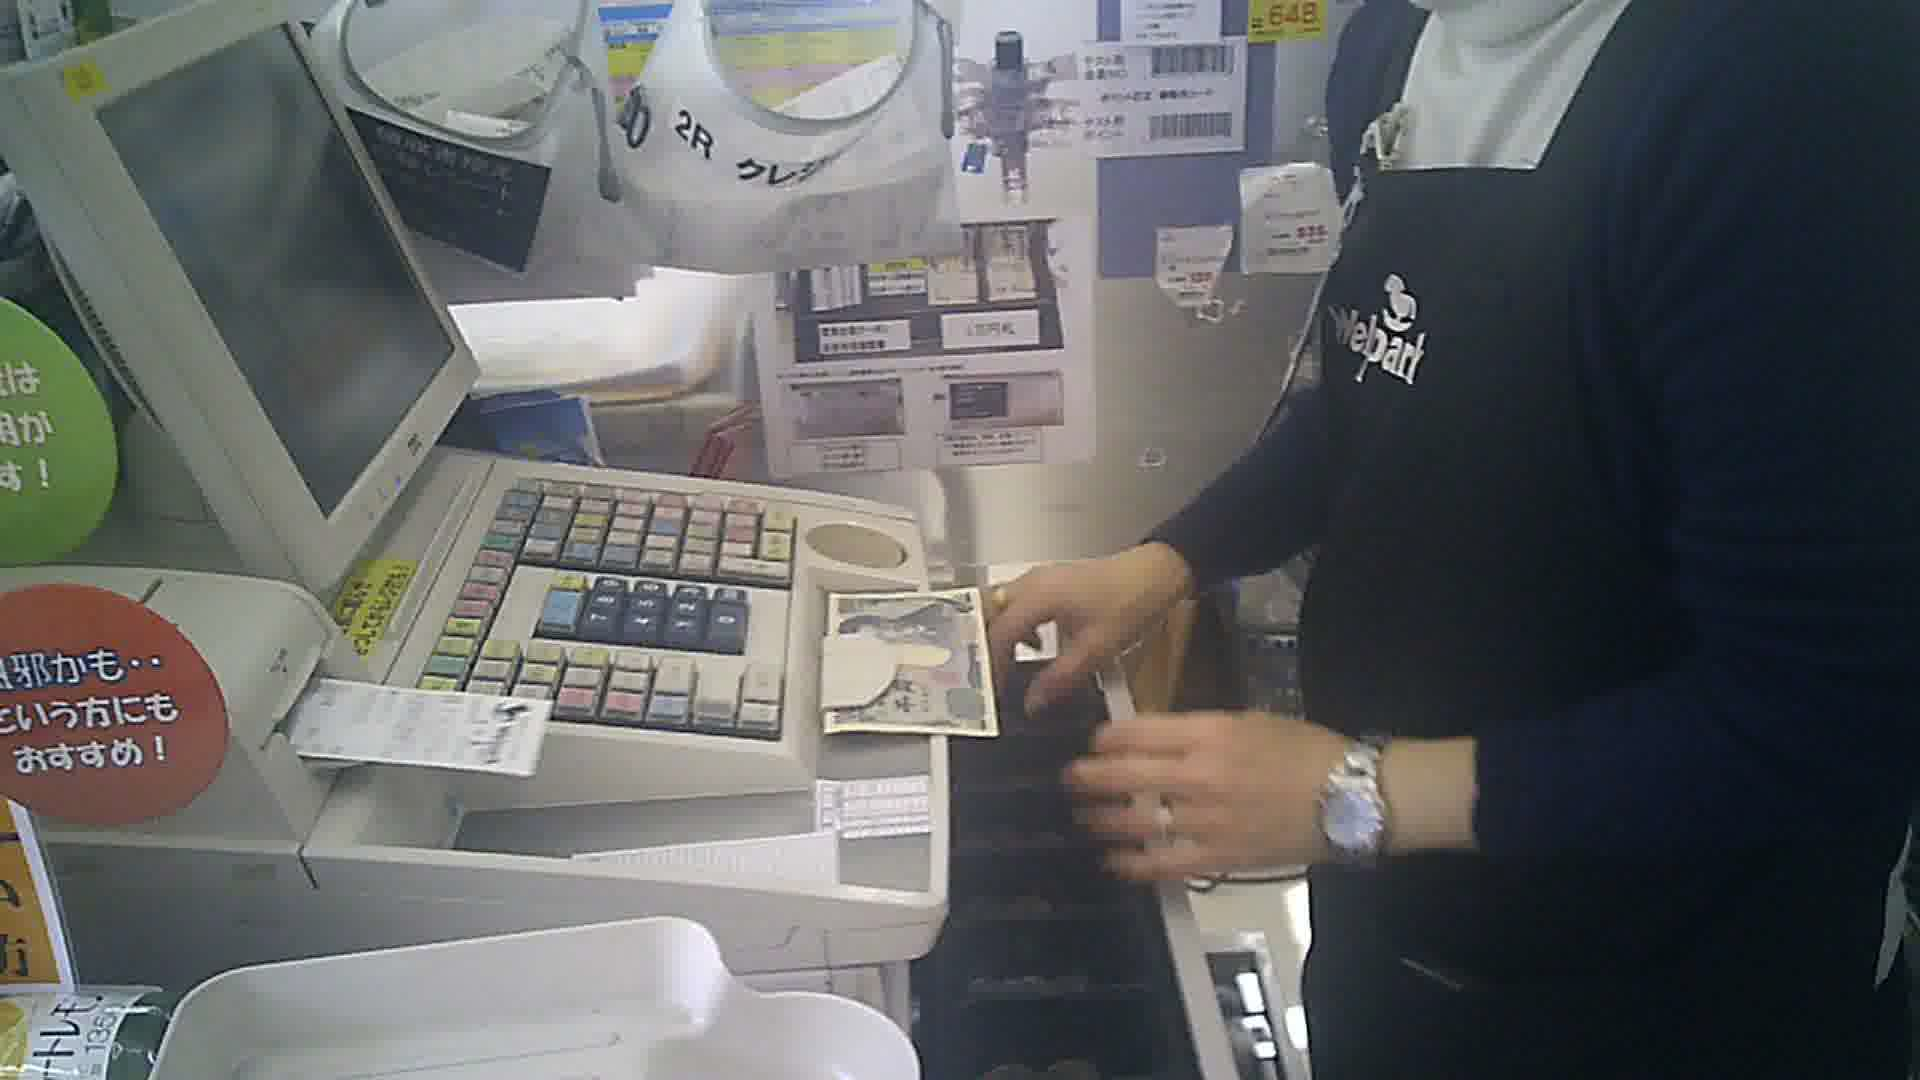1,000 Yen: (825, 574, 1023, 736)
